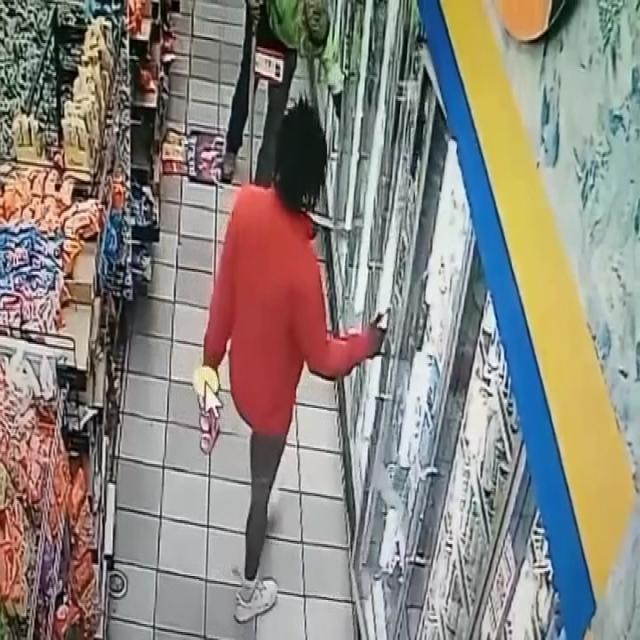normal: (191, 89, 393, 640), (219, 0, 348, 187)
